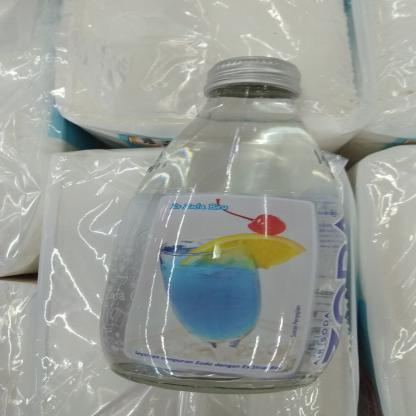glass: (92, 53, 361, 396)
